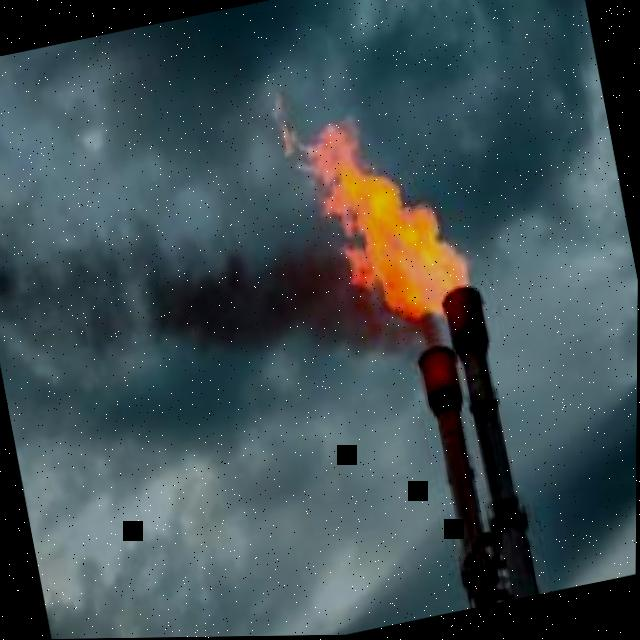fire: (274, 99, 471, 322)
smoke: (0, 170, 448, 366)
